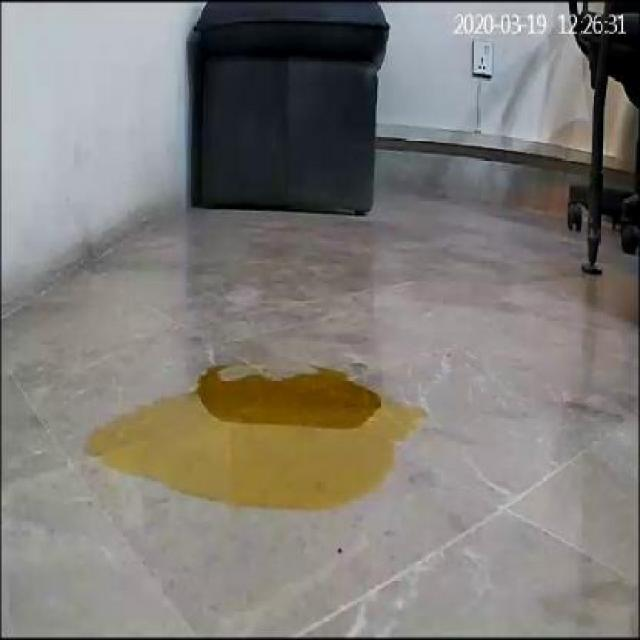spill: (84, 351, 430, 507)
